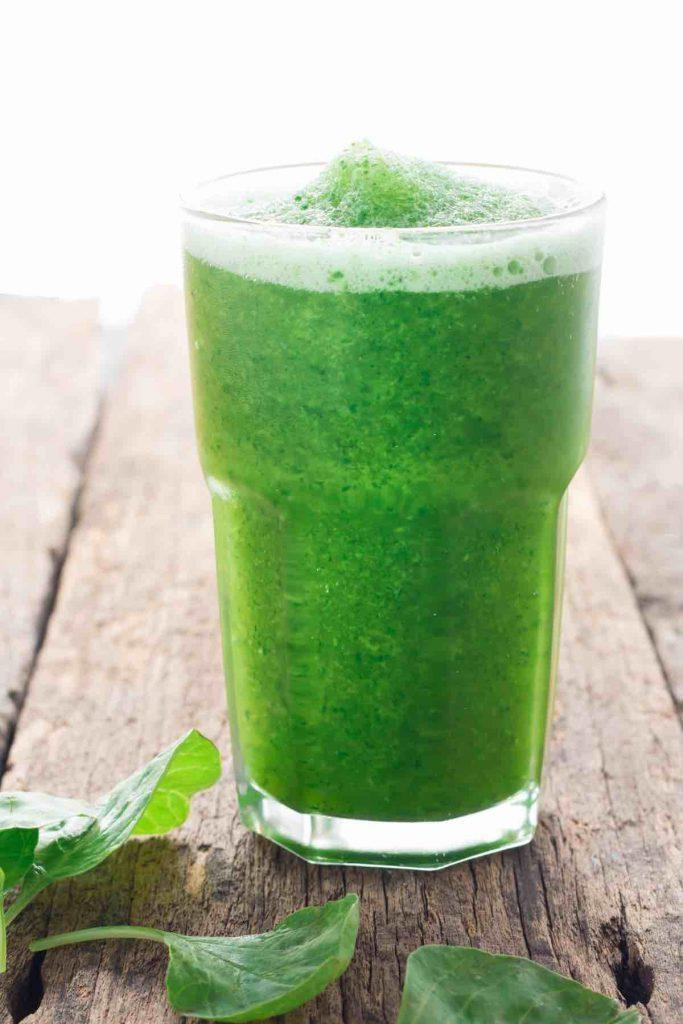glass-normal: (171, 155, 609, 881)
